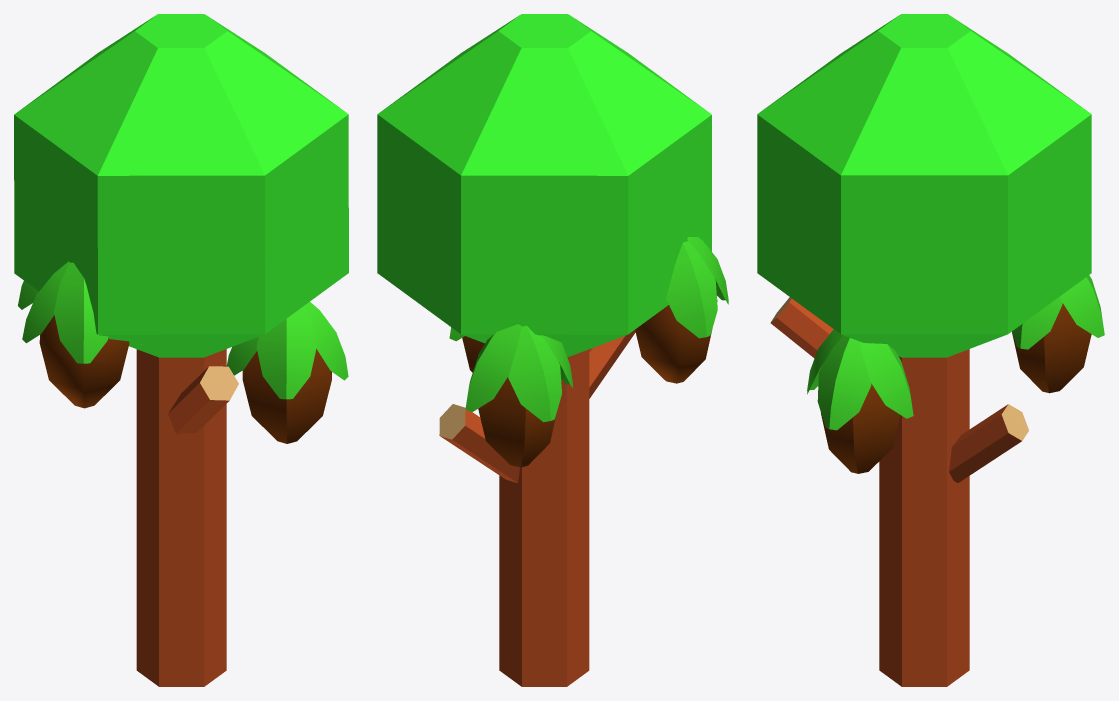
Rendered from tanaman_pohon_biji.fbx.
3 views of the same model, side by side, from view 1: azimuth 30°, elevation 25°; view 2: azimuth 150°, elevation 25°; view 3: azimuth 270°, elevation 25° (orthographic).
Parts seen in each view (by area): view 1: Cylinder.002; view 2: Cylinder.002; view 3: Cylinder.002.
Part boxes in pixels (x1=…): Cylinder.002: x1=14, y1=14, x2=348, y2=686; Cylinder.002: x1=377, y1=14, x2=728, y2=686; Cylinder.002: x1=757, y1=14, x2=1104, y2=686.
Size of the model in its own units: 69.05 by 147 by 72.6.
